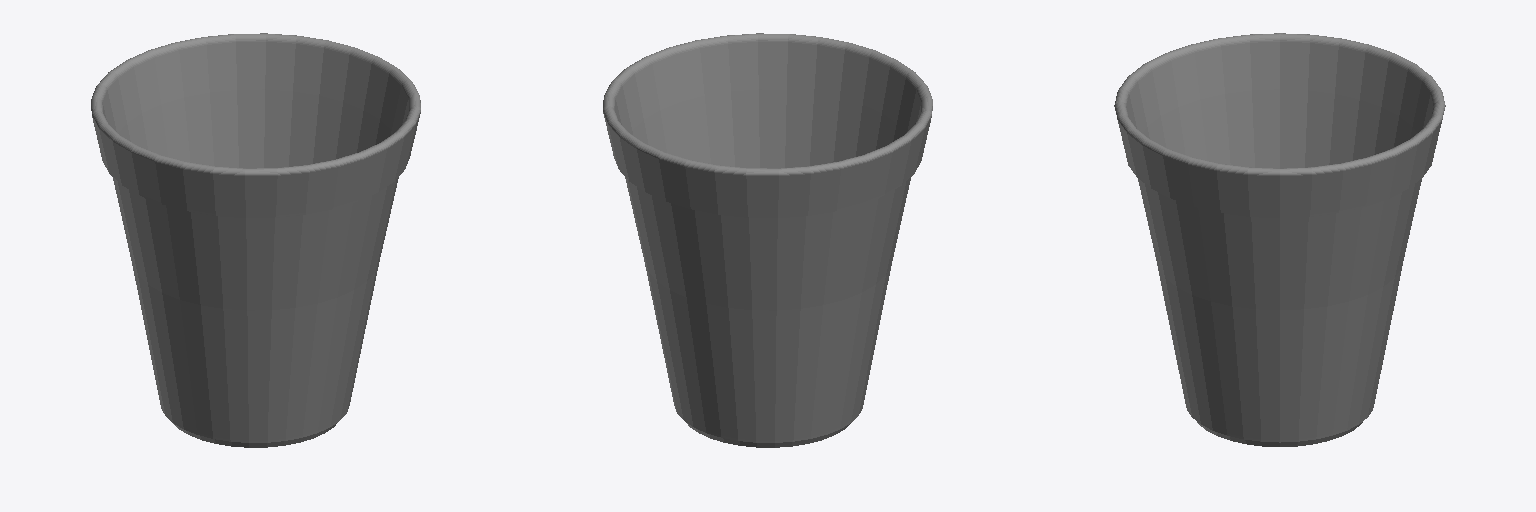
The model's file is cup.obj.
3 renders of one model, left to right at view 1: azimuth 30°, elevation 25°; view 2: azimuth 150°, elevation 25°; view 3: azimuth 270°, elevation 25°, orthographic.
Parts seen in each view (by area): view 1: cup; view 2: cup; view 3: cup.
Boxes of the visible parts, <box> form: cup: <box>91,33,420,447</box>; cup: <box>603,33,932,447</box>; cup: <box>1114,33,1445,446</box>.
Bounding box in the file's own units: 0.4677 × 0.4814 × 0.4677.